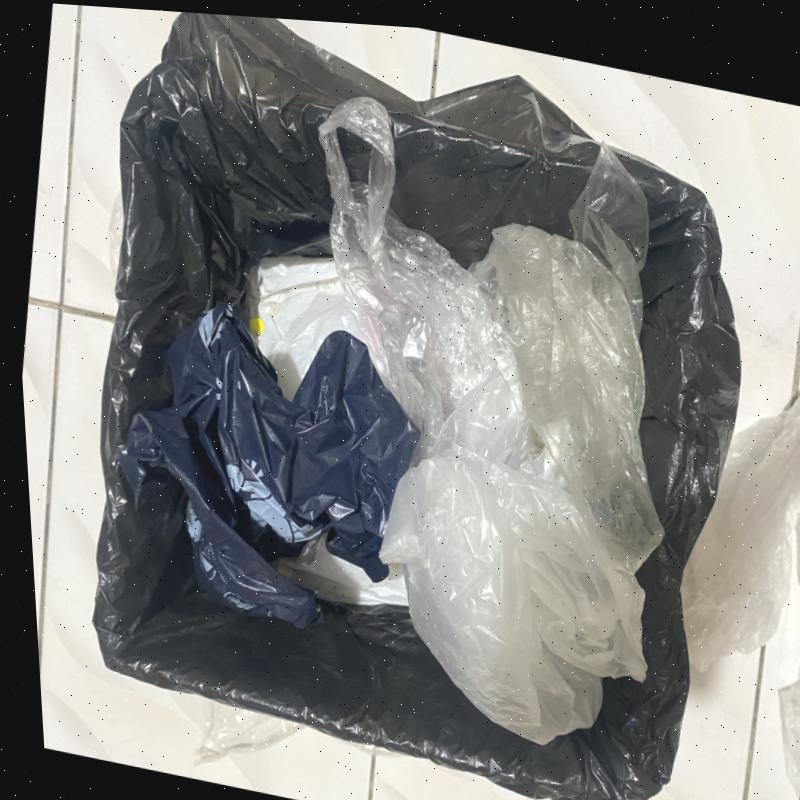plastic bag: (321, 92, 668, 744), (135, 304, 418, 625), (682, 382, 800, 678)
